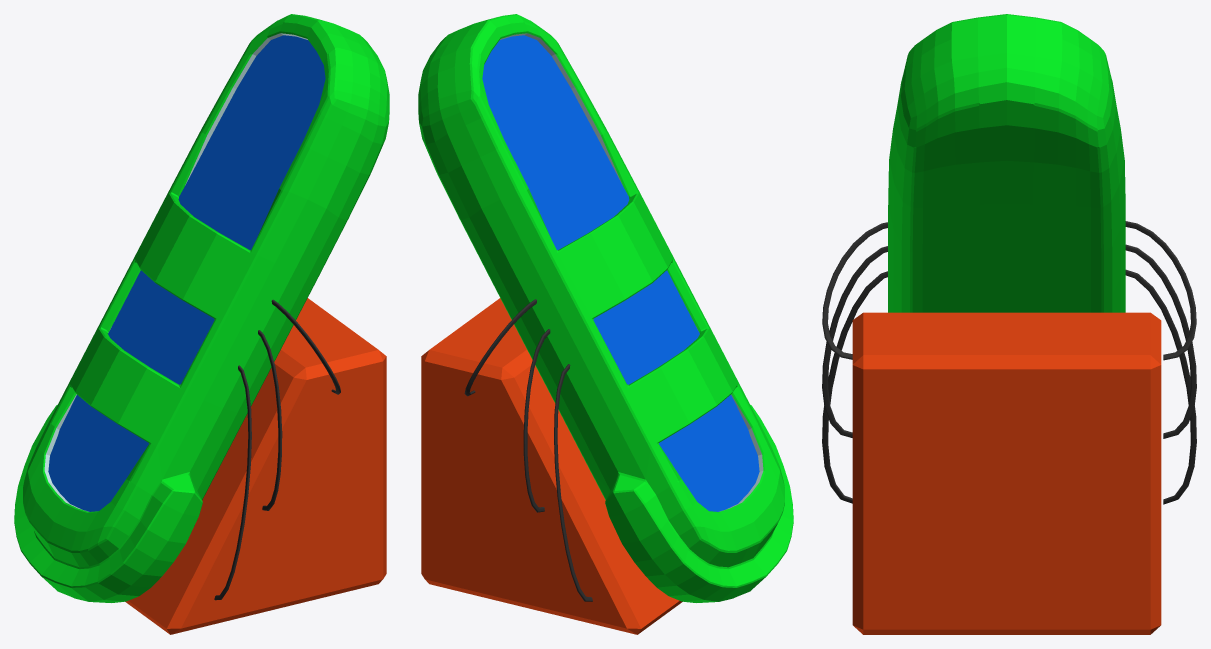
3 views of the same model, side by side, from view 1: azimuth 30°, elevation 25°; view 2: azimuth 150°, elevation 25°; view 3: azimuth 270°, elevation 25° (orthographic). The views are drawn at different scales.
Visible parts, largest first — view 1: Cube, Cube.003, Cube.001, Cube.004, BezierCurve.005, BezierCurve.004, BezierCurve.003; view 2: Cube, Cube.003, Cube.001, Cube.004, BezierCurve.002, BezierCurve.001, BezierCurve; view 3: Cube.003, Cube, BezierCurve.002, BezierCurve.005, BezierCurve.001, BezierCurve.004, BezierCurve, BezierCurve.003.
Boxes of the visible parts, left/top/right/bottom form: Cube: left=14, top=14, right=389, bottom=602; Cube.003: left=125, top=298, right=386, bottom=634; Cube.001: left=48, top=35, right=325, bottom=511; Cube.004: left=44, top=33, right=307, bottom=511; BezierCurve.005: left=214, top=365, right=251, bottom=600; BezierCurve.004: left=258, top=330, right=282, bottom=510; BezierCurve.003: left=271, top=299, right=340, bottom=394; Cube: left=418, top=14, right=793, bottom=602; Cube.003: left=421, top=298, right=682, bottom=634; Cube.001: left=482, top=35, right=759, bottom=511; Cube.004: left=500, top=33, right=763, bottom=511; BezierCurve.002: left=554, top=364, right=592, bottom=601; BezierCurve.001: left=523, top=329, right=550, bottom=512; BezierCurve: left=464, top=299, right=536, bottom=396; Cube.003: left=852, top=312, right=1161, bottom=634; Cube: left=888, top=14, right=1125, bottom=312; BezierCurve.002: left=1125, top=269, right=1196, bottom=504; BezierCurve.005: left=822, top=271, right=887, bottom=503; BezierCurve.001: left=1125, top=244, right=1196, bottom=438; BezierCurve.004: left=822, top=246, right=887, bottom=437; BezierCurve: left=1125, top=221, right=1196, bottom=360; BezierCurve.003: left=822, top=222, right=887, bottom=359.
Size of the model in its own units: 294 by 444 by 243.
